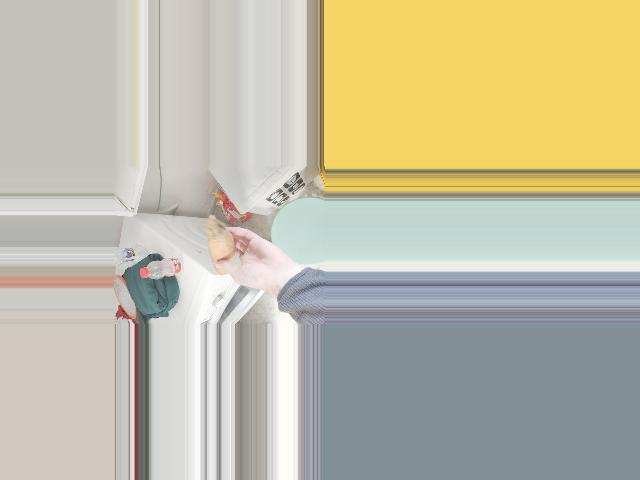sweet_potato: (207, 226, 232, 271)
